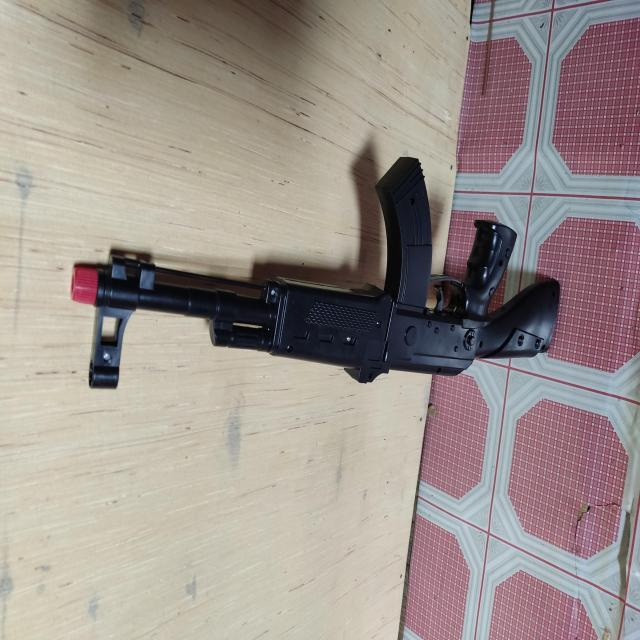rifle: (70, 154, 558, 388)
